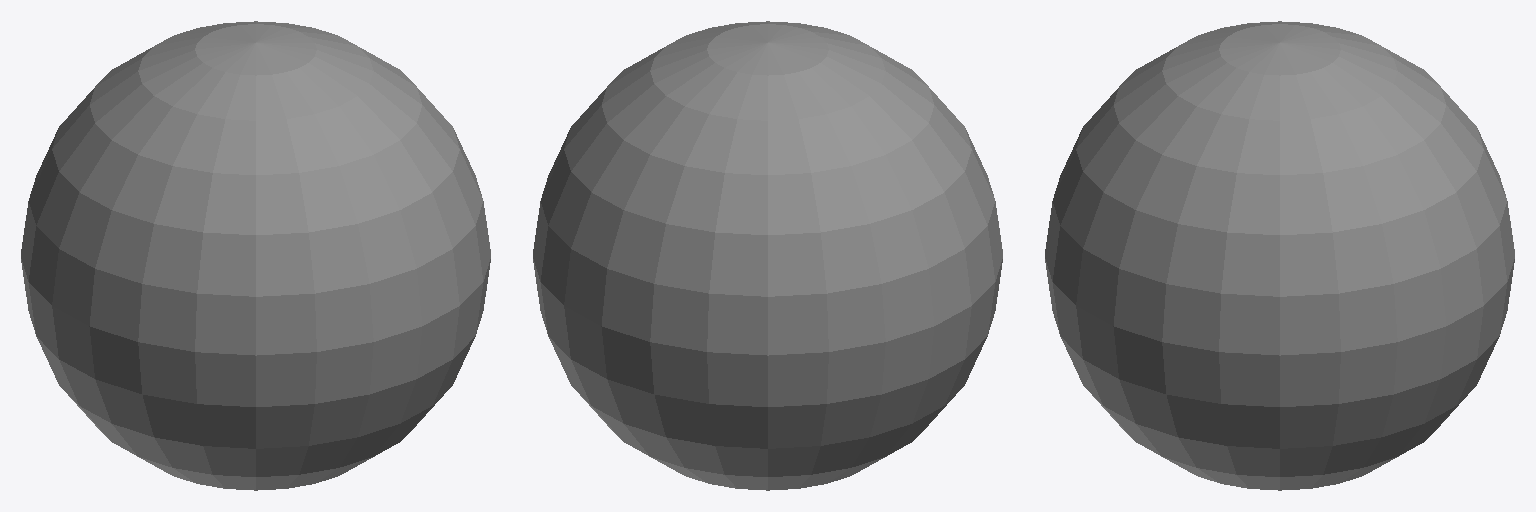
Rendered from gloworb.obj.
3 renders of one model, left to right at view 1: azimuth 30°, elevation 25°; view 2: azimuth 150°, elevation 25°; view 3: azimuth 270°, elevation 25°, orthographic.
Visible parts, largest first — view 1: Sphere_Sphere.001; view 2: Sphere_Sphere.001; view 3: Sphere_Sphere.001.
Part boxes in pixels (bbox=[...]): Sphere_Sphere.001: bbox=[21, 21, 490, 490]; Sphere_Sphere.001: bbox=[533, 21, 1002, 490]; Sphere_Sphere.001: bbox=[1045, 21, 1514, 490].
Size of the model in its own units: 2 by 2 by 2.